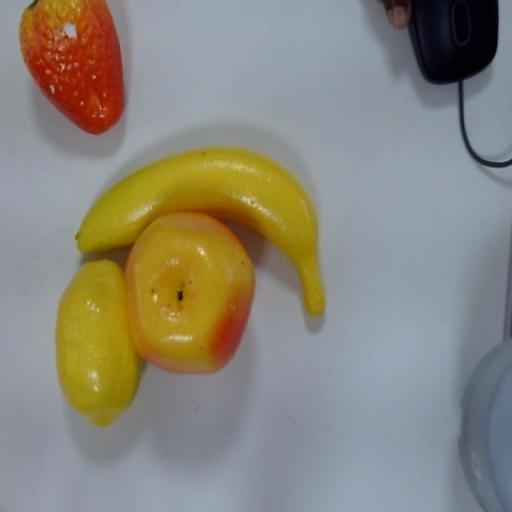Ripe: (73, 147, 345, 305), (122, 207, 258, 416), (20, 0, 150, 142), (56, 257, 140, 435)
